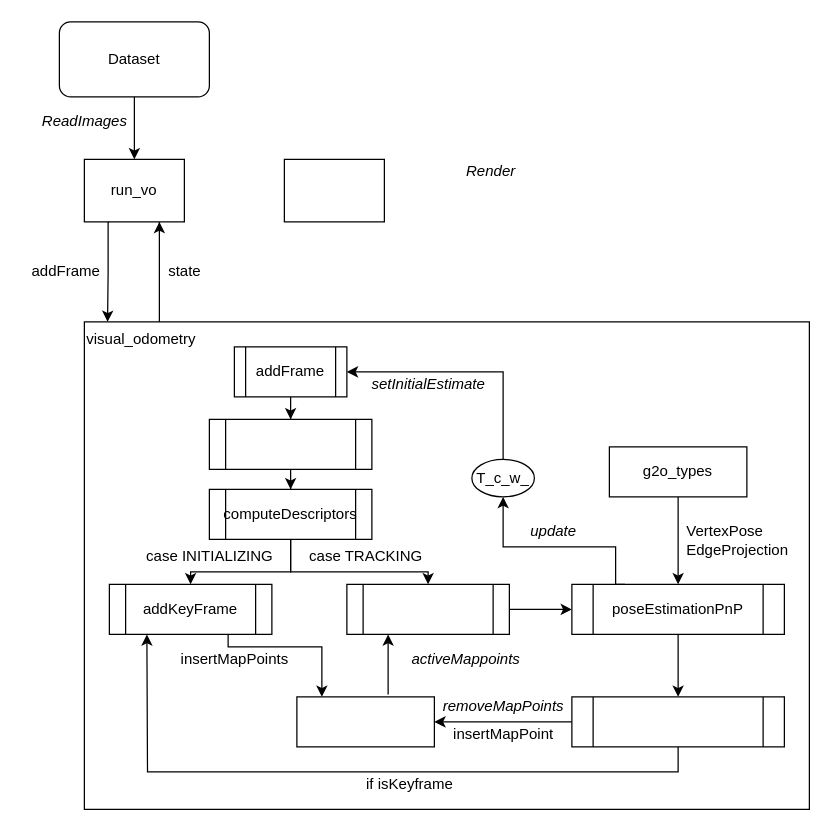
Some shapes in this 831 by 831 pixel diagram are drawn without their labels. Each missing label, with the centre of its shape:
"cullNonActiveMappoints" belongs at (677,721).
"extractKeyPoints" belongs at (290,443).
"featureMatching" belongs at (427,608).
"Map" belongs at (365,721).
"viewer" belongs at (333,190).
